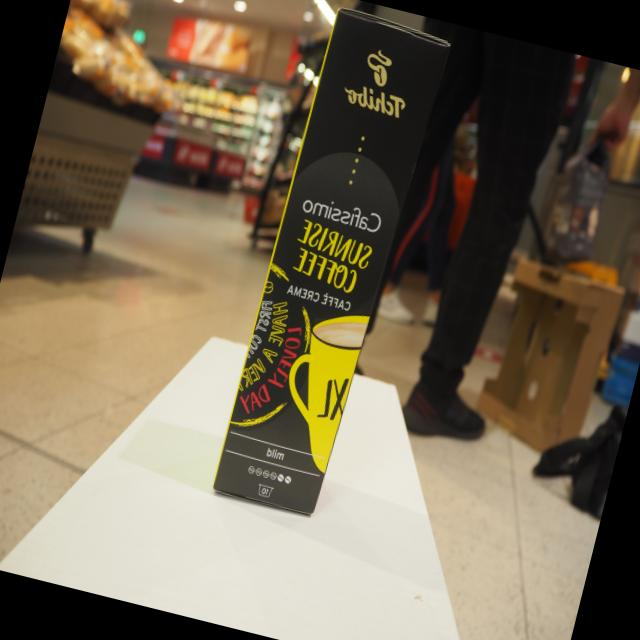Simo Sunrise: (210, 6, 453, 517)
